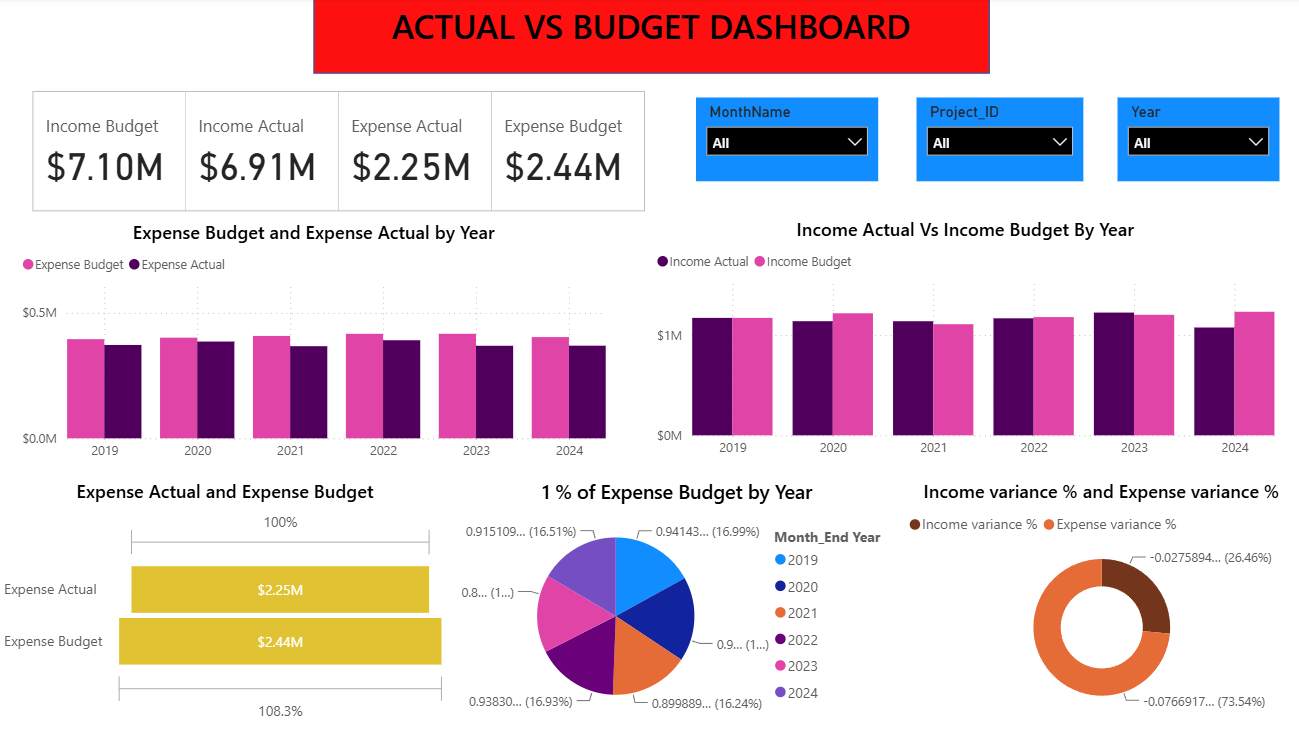

Layout of this report page (visuals, bound fields, positions):
{"tool":"powerbi","page":{"name":"Page 1","canvas":[1280,720],"ordinal":0},"visuals":[{"type":"slicer","fields":{"Values":["Data.Year"]},"box":[1084.9,96,154.5,79.7],"z":0},{"type":"slicer","fields":{"Values":["Data.Project_ID"]},"box":[893,96,159.4,79.7],"z":1000},{"type":"slicer","fields":{"Values":["Data.MonthName"]},"box":[681.5,96,174,79.7],"z":2000},{"type":"cardVisual","fields":{"Data":["Key Measures.Income Budget","Key Measures.Income Actual","Key Measures.Expense Actual","Key Measures.Expense Budget"]},"box":[42.3,84.6,596.9,125.2],"z":3000},{"type":"clusteredColumnChart","title":"Income Actual Vs Income Budget By Year","fields":{"Y":["Key Measures.Income Actual","Key Measures.Income Budget"],"Category":["Data.Year"]},"box":[639.2,209.8,600.2,239.1],"z":3001},{"type":"clusteredColumnChart","fields":{"Category":["Data.Year"],"Y":["Key Measures.Expense Budget","Key Measures.Expense Actual"]},"box":[32.5,211.5,567.7,239.1],"z":3002},{"type":"pieChart","fields":{"Y":["Key Measures.1 % of Expense Budget"],"Category":["Data.Month_End.Variation.Date Hierarchy.Year","Data.Month_End.Variation.Date Hierarchy.Quarter","Data.Month_End.Variation.Date Hierarchy.Month","Data.Month_End.Variation.Date Hierarchy.Day"]},"box":[448.9,460.3,431,237.5],"z":3003},{"type":"funnel","fields":{"Y":["Key Measures.Expense Actual","Key Measures.Expense Budget"]},"box":[16.3,460.3,432.7,237.5],"z":3004},{"type":"donutChart","fields":{"Y":["Key Measures.Income variance %","Key Measures.Expense variance %"]},"box":[880,460.3,379,231],"z":3005},{"type":"shape","box":[316,0,646,73.2],"z":3006},{"type":"textbox","box":[300.4,0,684.9,62.3],"z":3007}]}

Visuals, with their boxes in screenshot pixels (x1, y1, x2, y2), scaled from the page's 1280x720 canvas onto the 1299x733 screenshot:
slicer - Data.Year: <bbox>1101, 98, 1258, 179</bbox>
slicer - Data.Project_ID: <bbox>906, 98, 1068, 179</bbox>
slicer - Data.MonthName: <bbox>692, 98, 868, 179</bbox>
cardVisual - Key Measures.Income Budget x Key Measures.Income Actual: <bbox>43, 86, 649, 214</bbox>
"Income Actual Vs Income Budget By Year" clusteredColumnChart: <bbox>649, 214, 1258, 457</bbox>
clusteredColumnChart - Data.Year x Key Measures.Expense Budget: <bbox>33, 215, 609, 459</bbox>
pieChart - Key Measures.1 % of Expense Budget x Data.Month_End.Variation.Date Hierarchy.Year: <bbox>456, 469, 893, 710</bbox>
funnel - Key Measures.Expense Actual x Key Measures.Expense Budget: <bbox>17, 469, 456, 710</bbox>
donutChart - Key Measures.Income variance % x Key Measures.Expense variance %: <bbox>893, 469, 1278, 704</bbox>
shape: <bbox>321, 0, 976, 75</bbox>
textbox: <bbox>305, 0, 1000, 63</bbox>
